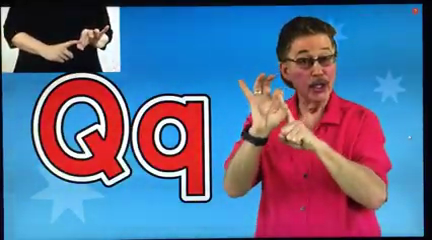Q: (228, 67, 324, 158)
